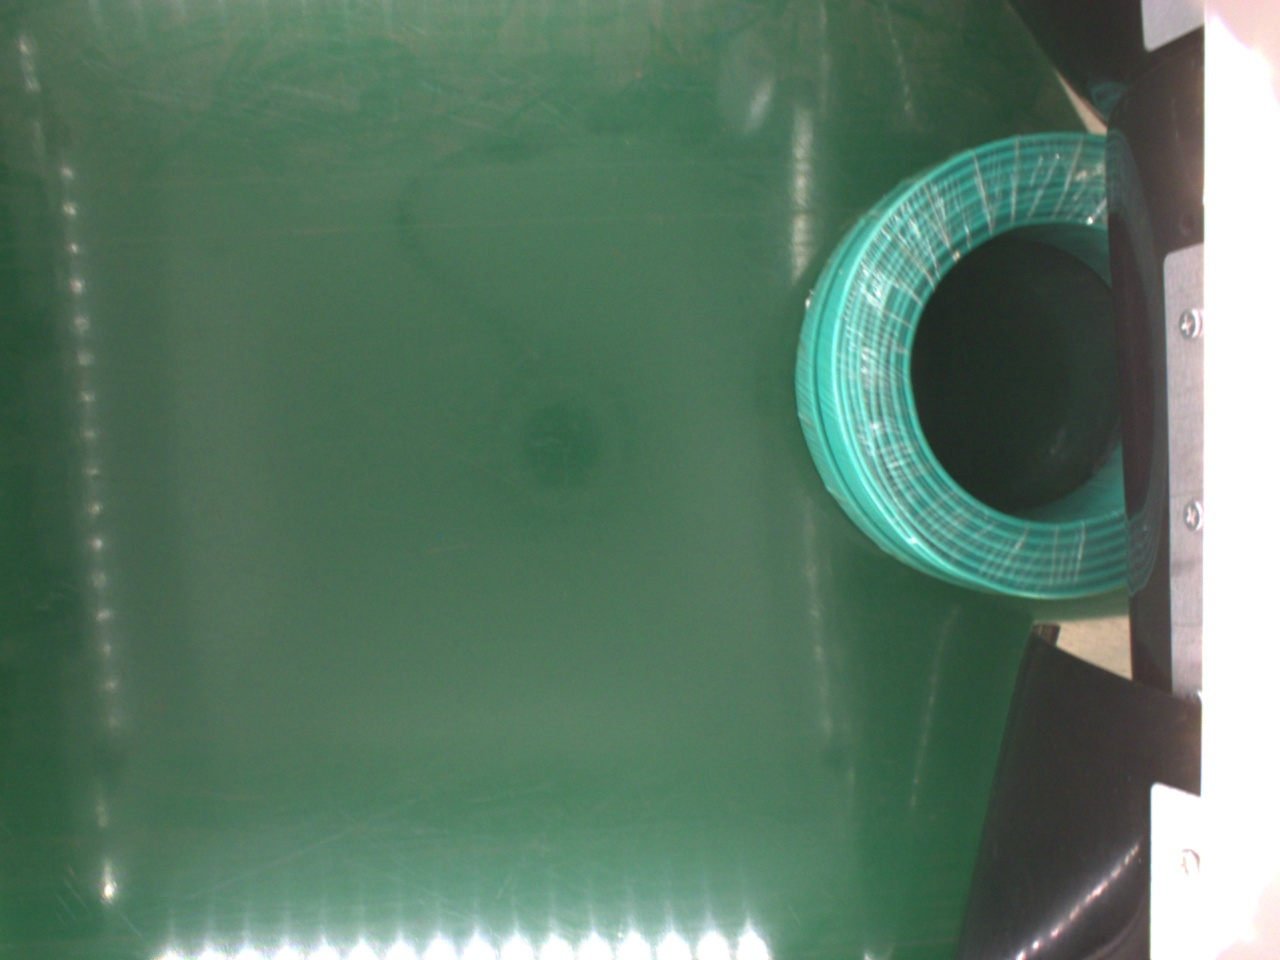green: (800, 130, 1145, 604)
